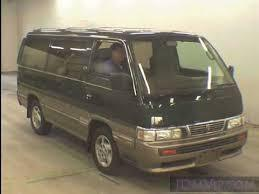van: (16, 25, 252, 176)
